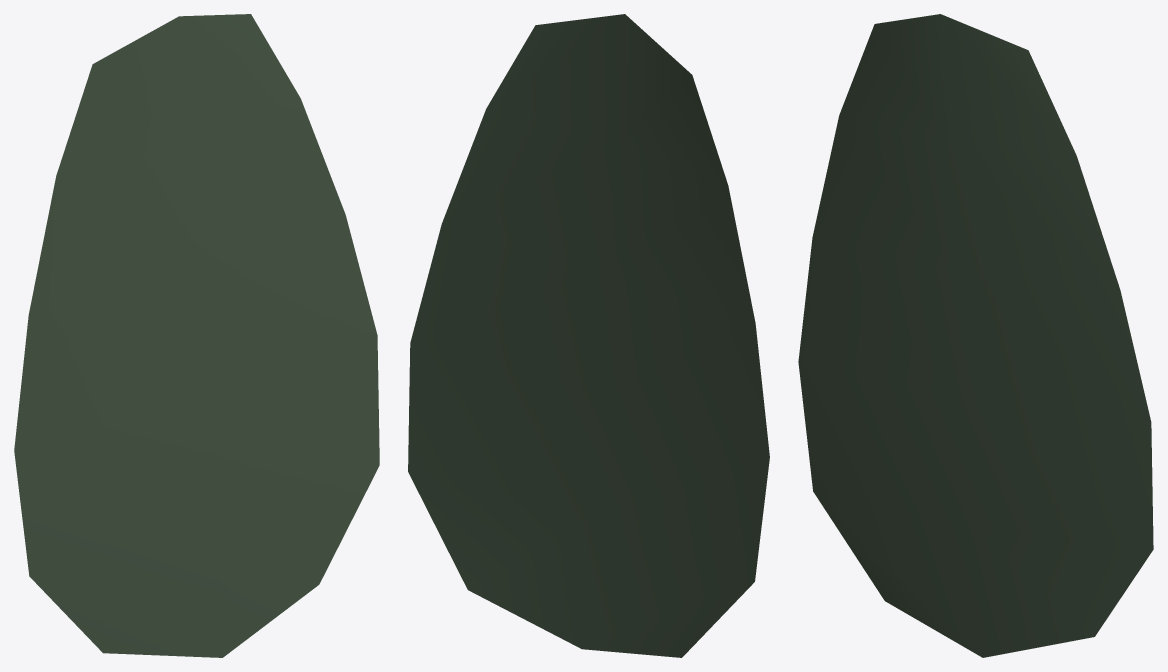
The model's file is duck_feather_flight_tertiary_008.obj.
3 renders of one model, left to right at view 1: azimuth 30°, elevation 25°; view 2: azimuth 150°, elevation 25°; view 3: azimuth 330°, elevation 25°, orthographic. The views are drawn at different scales.
Visible parts, largest first — view 1: feather_flight_tertiary_008; view 2: feather_flight_tertiary_008; view 3: feather_flight_tertiary_008.
Part boxes in pixels (x1,y1,x2,y2): feather_flight_tertiary_008: (14, 14, 379, 657); feather_flight_tertiary_008: (408, 14, 769, 657); feather_flight_tertiary_008: (798, 14, 1153, 657).
Bounding box in the file's own units: 0.0144 × 0.0245 × 0.000633.
